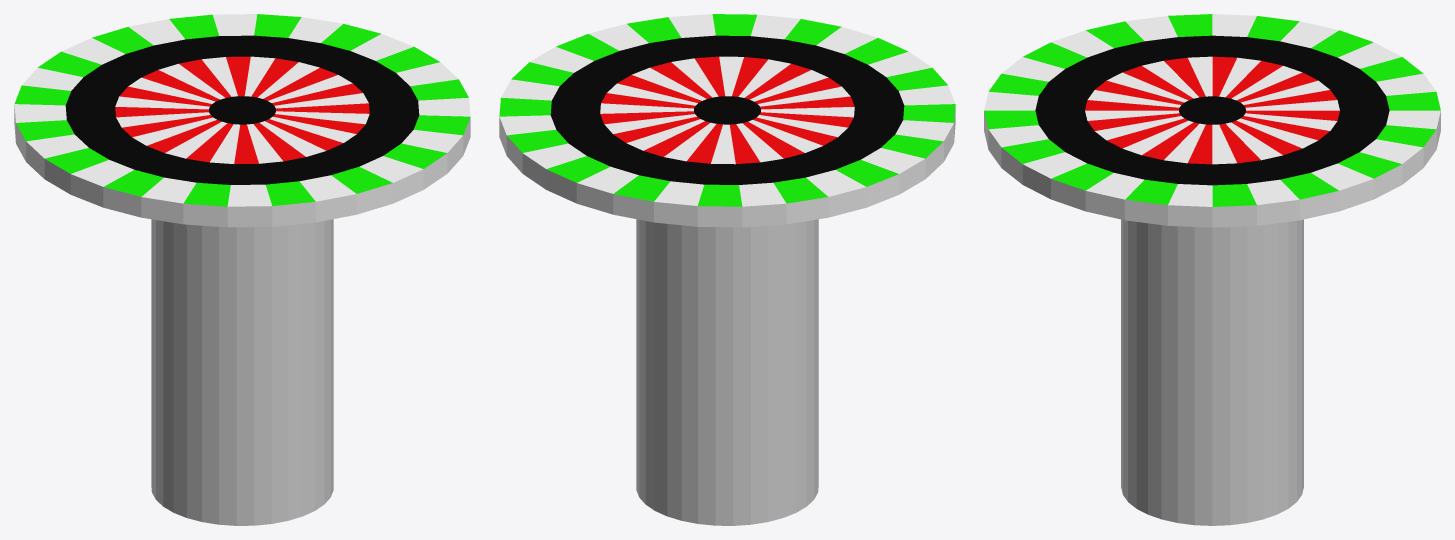
The model's file is Cible.fbx.
The picture shows the model from 3 angles, left to right: view 1: azimuth 30°, elevation 25°; view 2: azimuth 150°, elevation 25°; view 3: azimuth 270°, elevation 25°; orthographic projection.
Parts seen in each view (by area): view 1: Cylindre, Cylindre.001; view 2: Cylindre, Cylindre.001; view 3: Cylindre, Cylindre.001.
Part boxes in pixels (left/top/right/bottom): Cylindre: left=14, top=14, right=470, bottom=227; Cylindre.001: left=151, top=219, right=333, bottom=525; Cylindre: left=499, top=14, right=955, bottom=227; Cylindre.001: left=636, top=219, right=818, bottom=525; Cylindre: left=984, top=14, right=1440, bottom=227; Cylindre.001: left=1121, top=219, right=1303, bottom=525.
Bounding box in the file's own units: 200 × 182 × 200.
